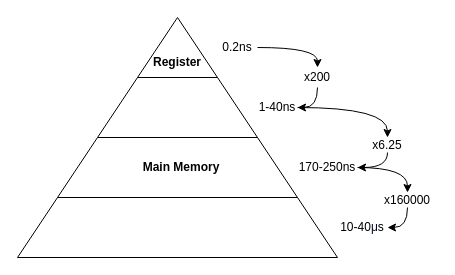
The diagram is 455 pixels wide and 275 high, and some of its shapes have lost their labels. Here are the shapes that lost their labels. From the top down, the centre of each, then its label:
At point 177,107: "Cache".
At point 177,227: "SSD Background Memory".
